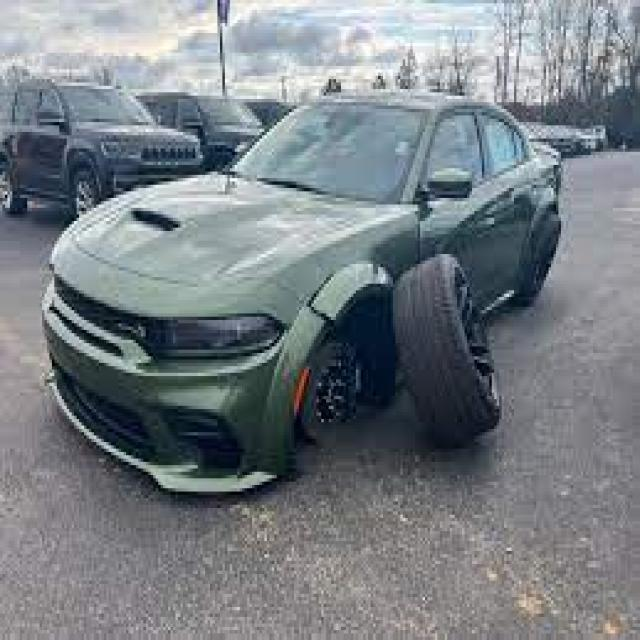minor: (259, 259, 600, 492)
